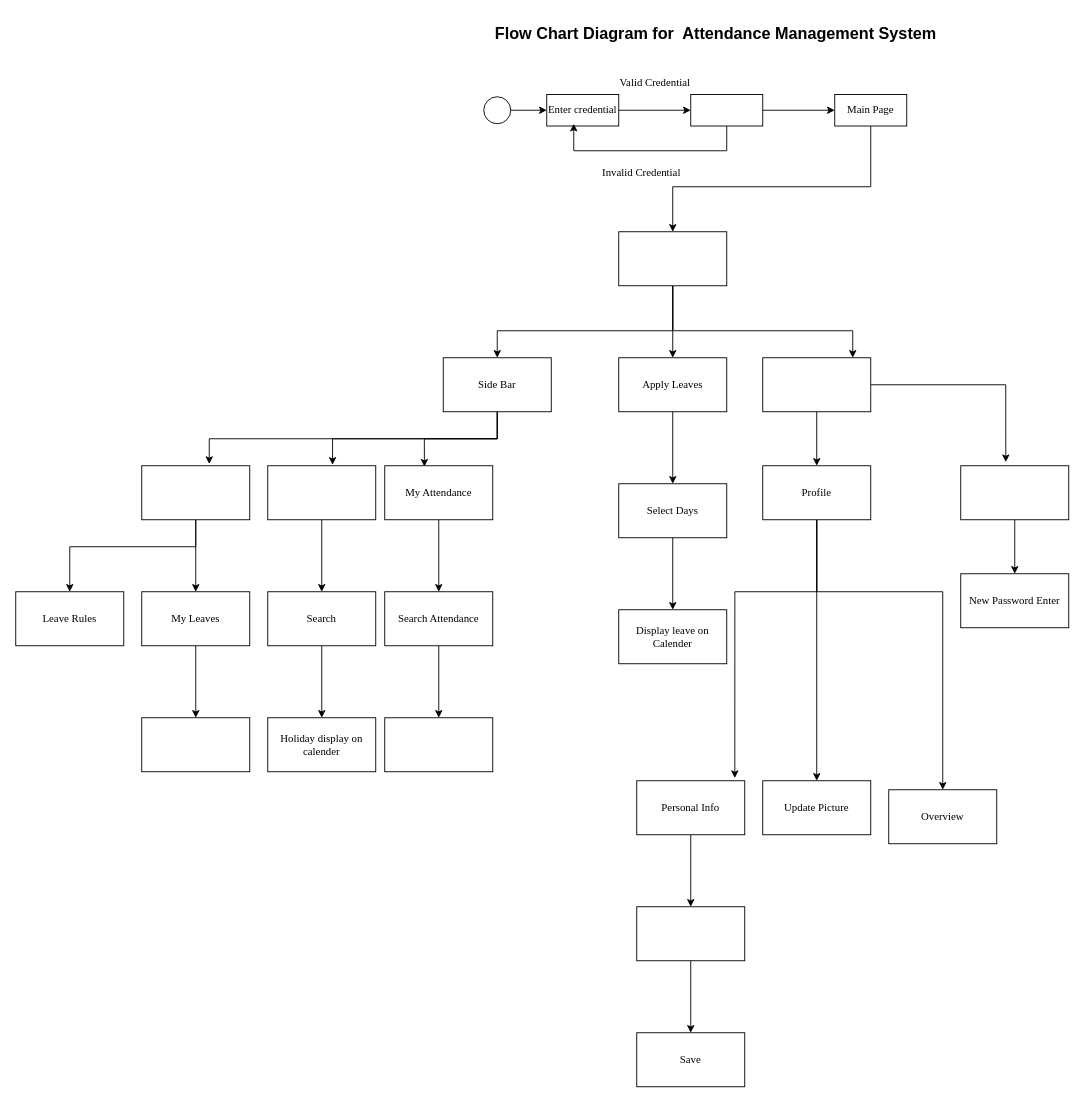
This 1085x1103 diagram has some shape labels left out. Each missing label, with the centre of its shape:
"Change Password" goes at [1014,492].
"Dashboard" goes at [672,258].
"Display Attendance" goes at [438,744].
"Holidays" goes at [321,492].
"Leaves" goes at [195,492].
"Log in" goes at [726,110].
"Profile Dropdown" goes at [816,384].
"Status" goes at [195,744].
"Update info" goes at [690,933].
